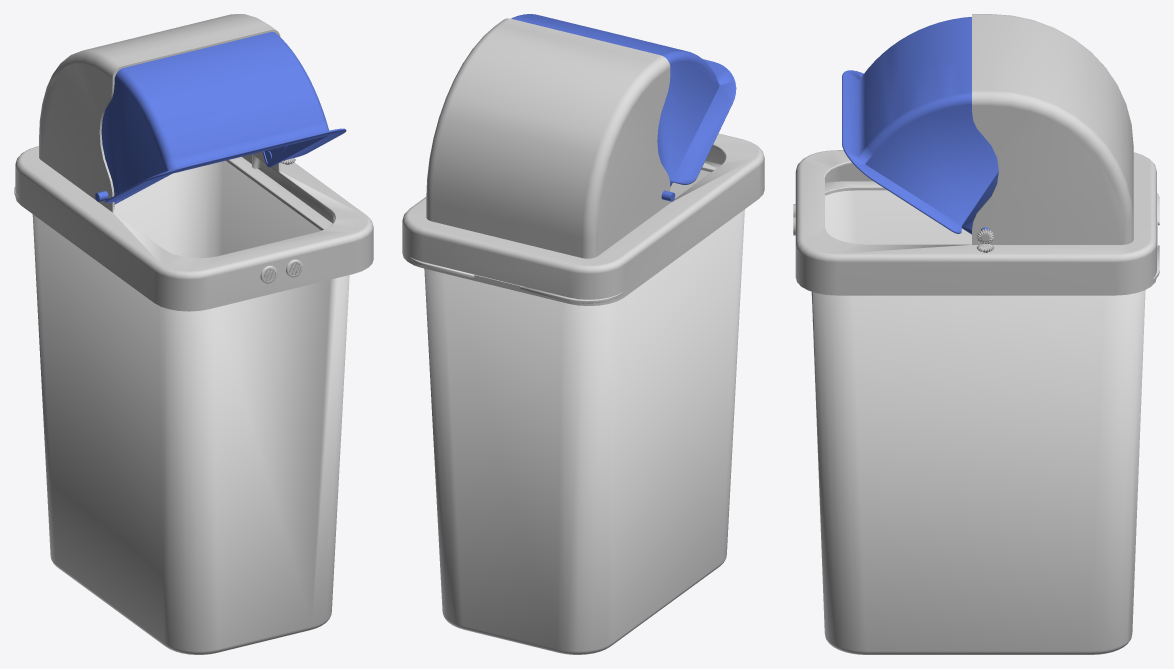
Rendered from smart-bin.glb.
3 views of the same model, side by side, from view 1: azimuth 30°, elevation 25°; view 2: azimuth 150°, elevation 25°; view 3: azimuth 270°, elevation 25° (orthographic). The views are drawn at different scales.
Visible parts, largest first — view 1: Smart Bin v9.001; view 2: Smart Bin v9.001; view 3: Smart Bin v9.001.
Part boxes in pixels (x1=…): Smart Bin v9.001: x1=14, y1=14, x2=373, y2=654; Smart Bin v9.001: x1=402, y1=14, x2=764, y2=654; Smart Bin v9.001: x1=793, y1=14, x2=1159, y2=654.
Size of the model in its own units: 21.5 by 52.2 by 30.65.
